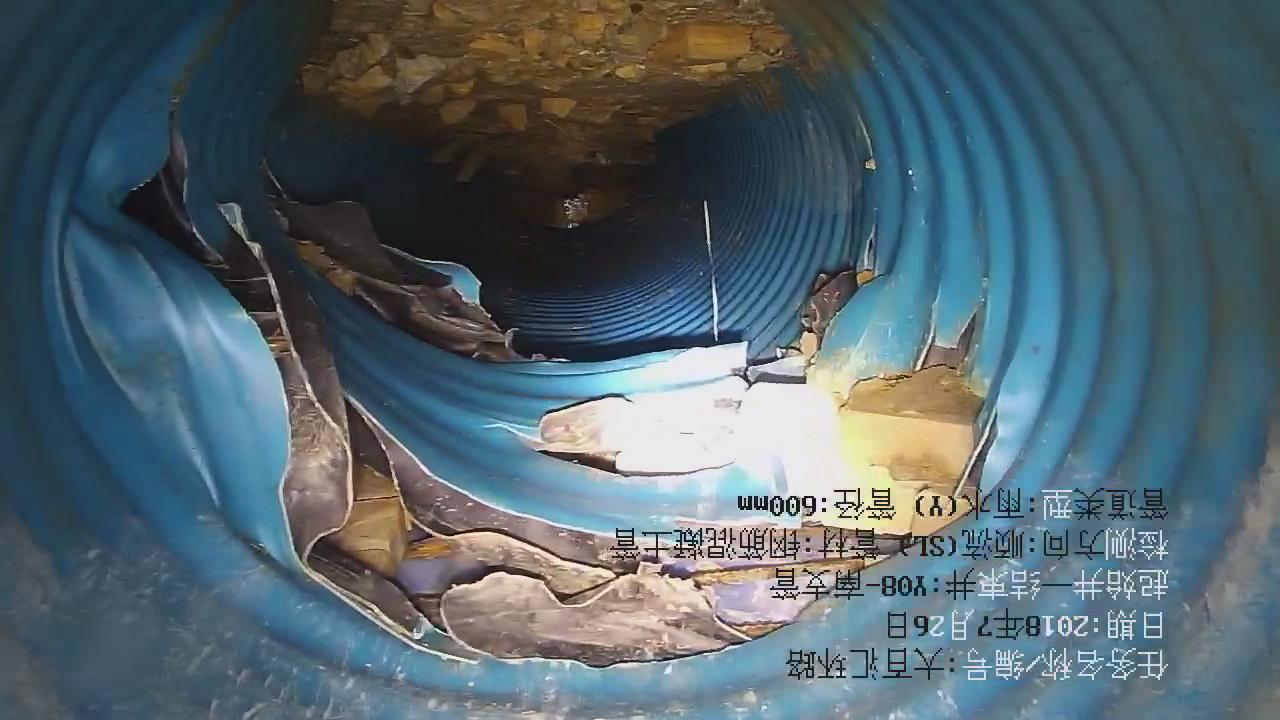BX: (93, 81, 1025, 681)
PL: (125, 118, 994, 667), (279, 200, 525, 361)
